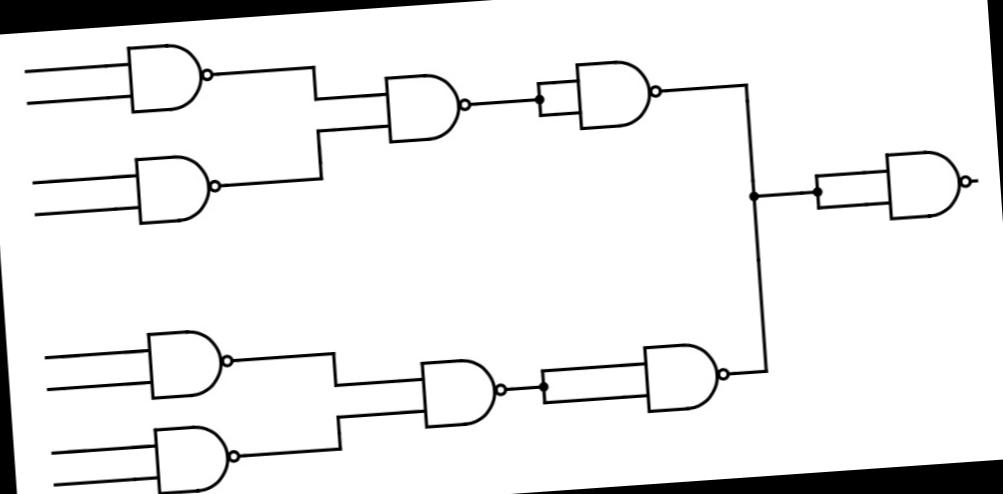nand: (870, 132, 982, 231), (562, 46, 666, 144), (629, 330, 734, 424), (372, 62, 479, 154), (106, 33, 220, 119), (122, 138, 226, 232), (410, 346, 513, 440), (137, 318, 241, 404), (144, 415, 243, 494)
